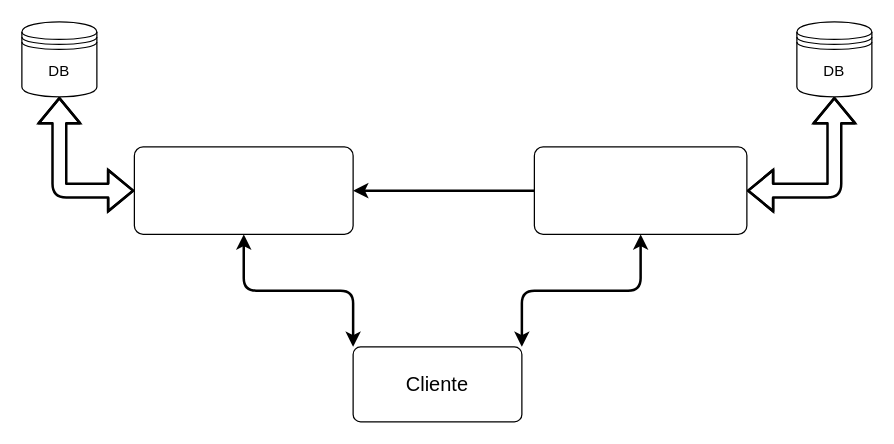
This 894x444 diagram has some shape labels left out. The shapes that lost their labels are listed below. From the top down, each one's centre as x and y in pixels, then its label:
At point (243, 190): "Servidor de Tarefas".
At point (640, 190): "Servidor de Relatórios".
